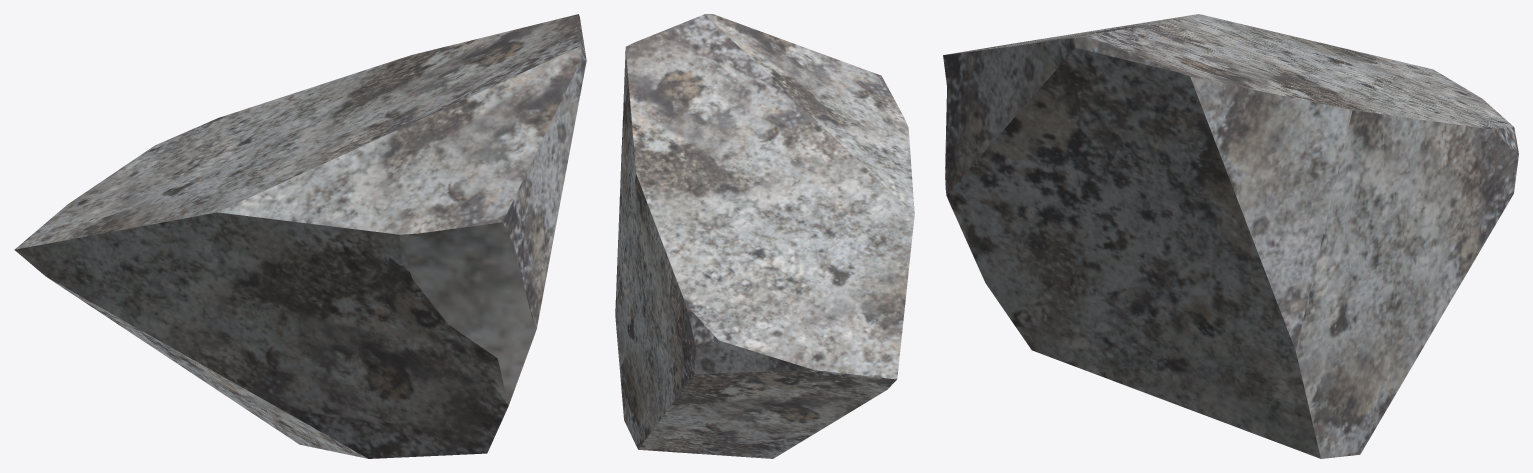
File: Asteroid_Large_001_02_002_03_014.fbx
3 views of the same model, side by side, from view 1: azimuth 30°, elevation 25°; view 2: azimuth 150°, elevation 25°; view 3: azimuth 270°, elevation 25° (orthographic). The views are drawn at different scales.
Visible parts, largest first — view 1: Asteroid_Large_001_02_002_03_014; view 2: Asteroid_Large_001_02_002_03_014; view 3: Asteroid_Large_001_02_002_03_014.
Boxes of the visible parts, x1=… form: Asteroid_Large_001_02_002_03_014: x1=14, y1=14, x2=586, y2=458; Asteroid_Large_001_02_002_03_014: x1=615, y1=14, x2=914, y2=458; Asteroid_Large_001_02_002_03_014: x1=943, y1=14, x2=1518, y2=458.
Bounding box in the file's own units: 11.68 × 10.63 × 12.44.
